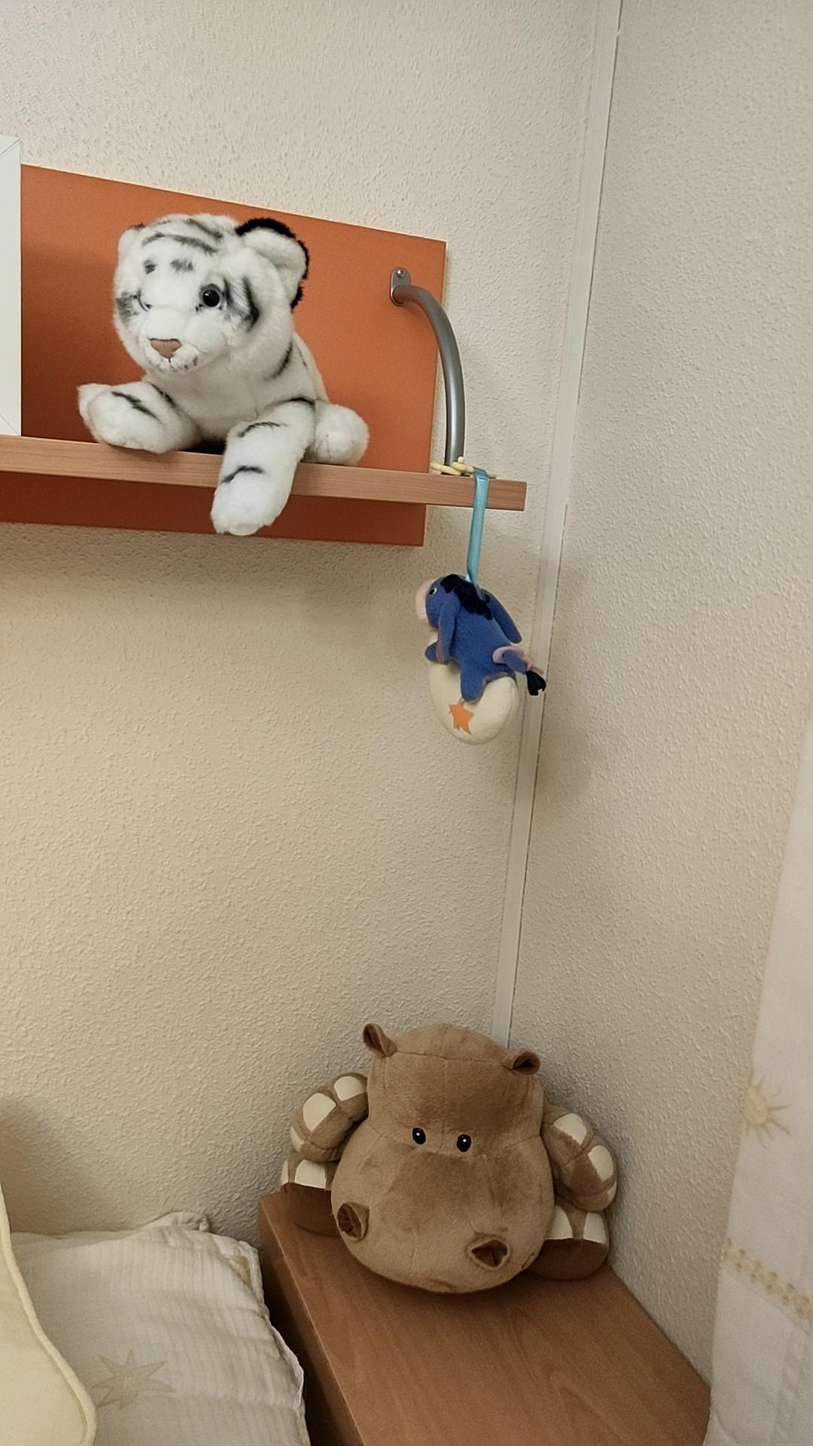toy: (79, 215, 367, 535), (281, 1024, 617, 1292), (419, 574, 544, 742)
